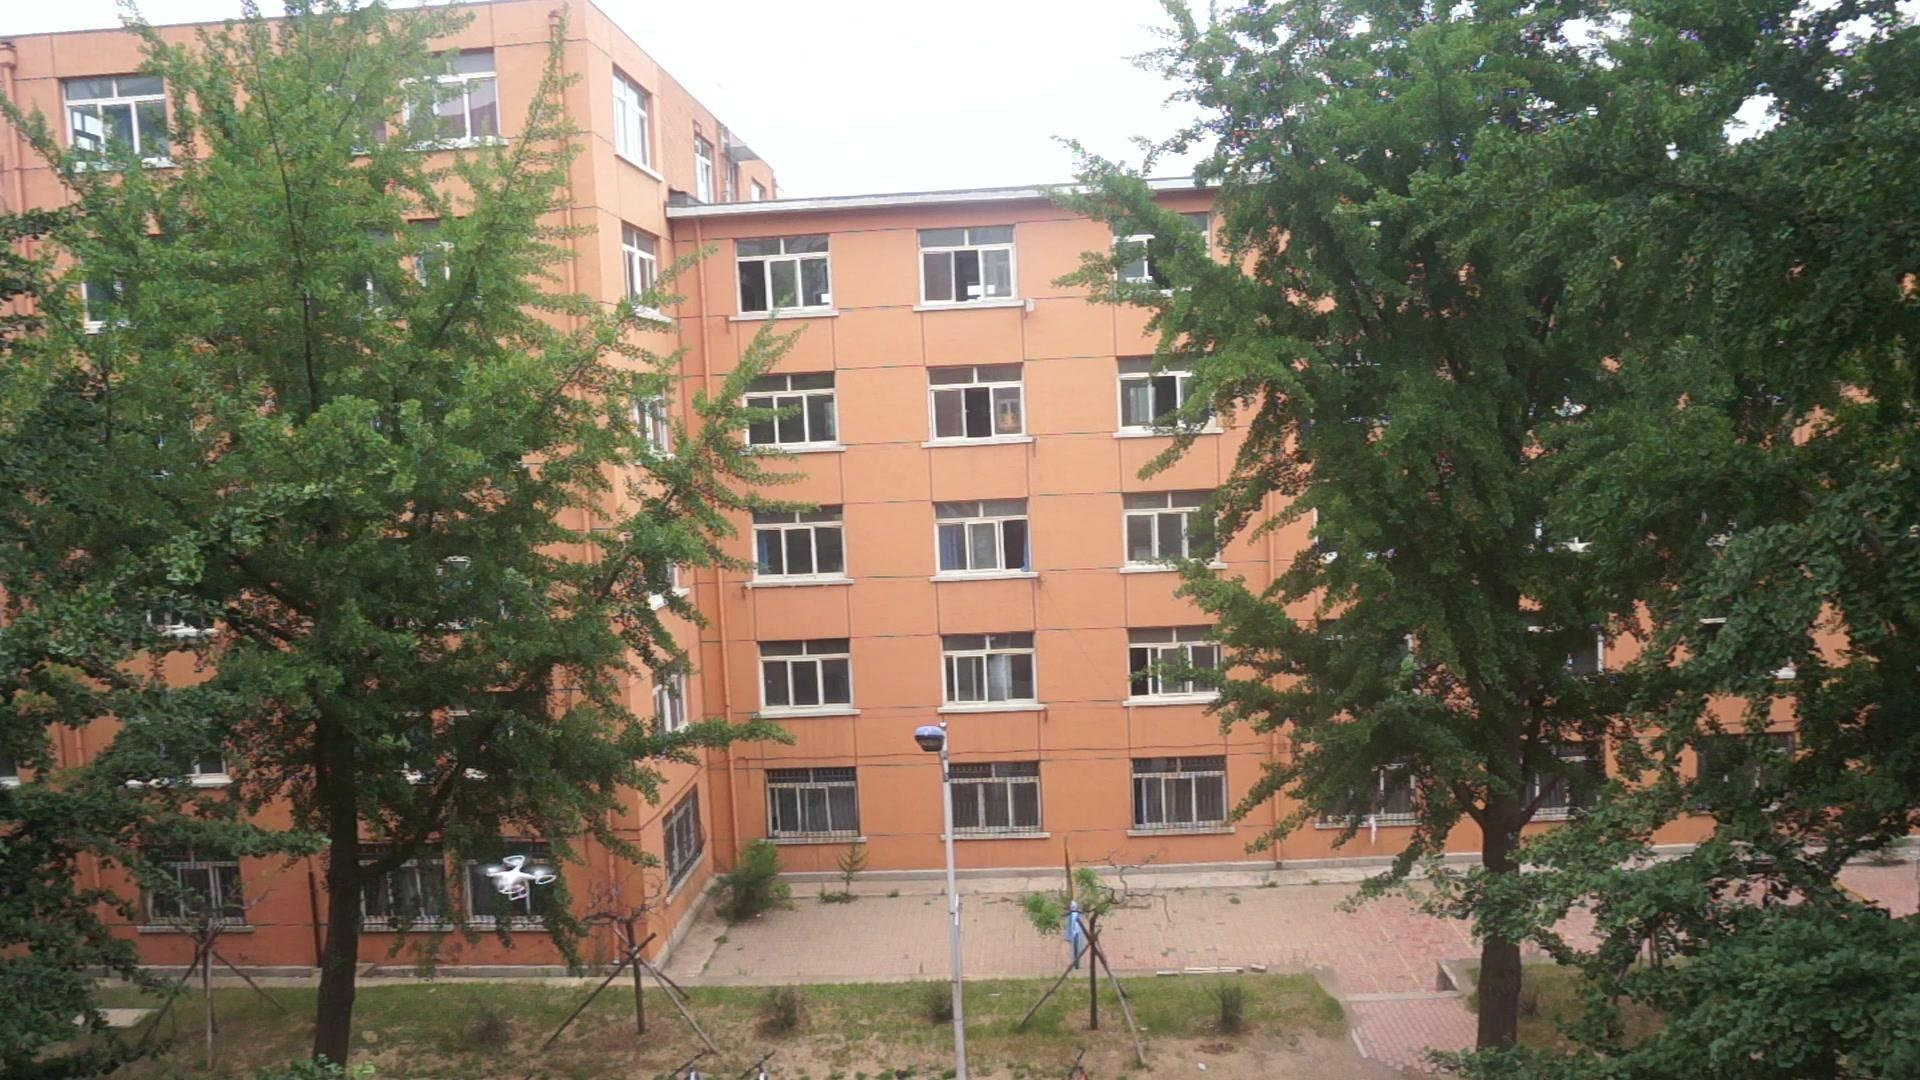UAV: (476, 855, 556, 901)
